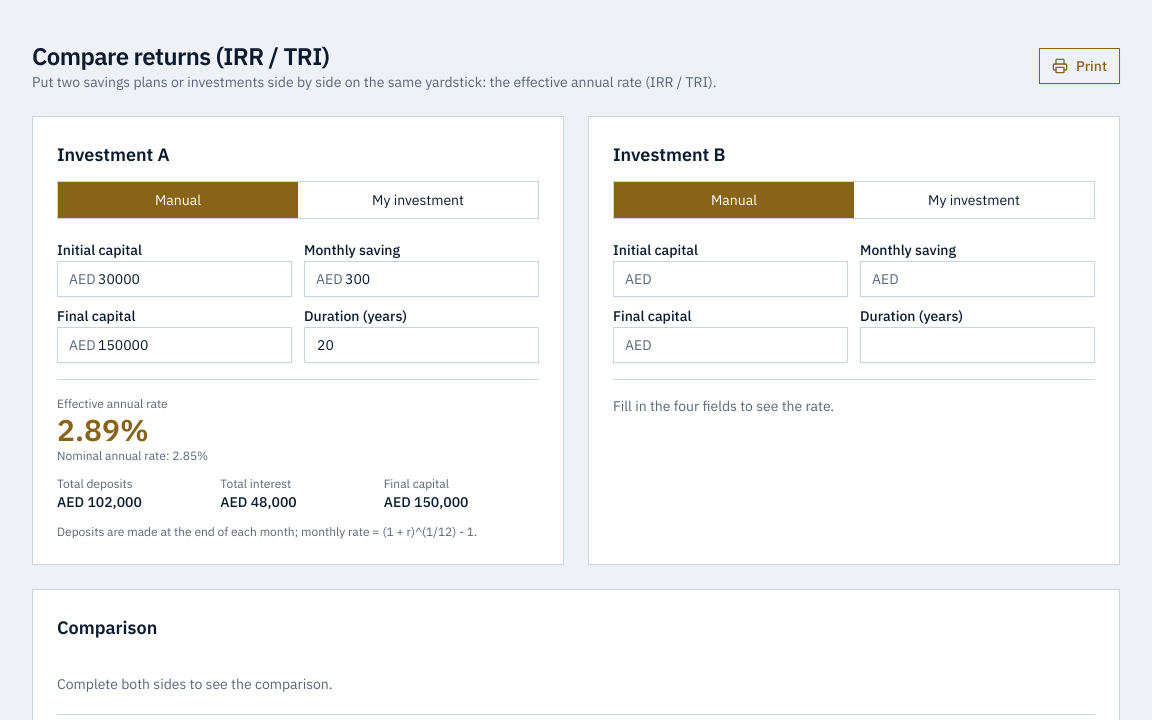
Scenario: IrrCompare: holdings › searches holdings by name
Click the radio button with test id "irr-b-source-holding".
click(974, 200)  # box [928,191,1020,209]
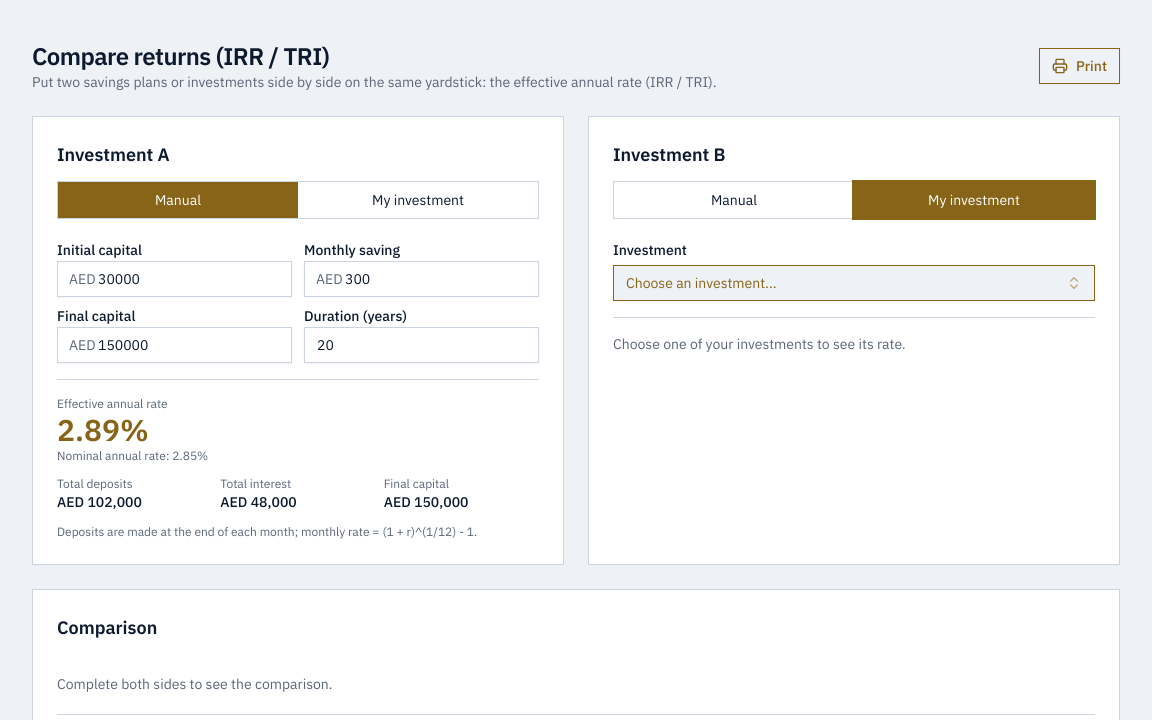
Click the dropdown with test id "irr-b-holding".
click(701, 283)  # box [613,265,1095,301]
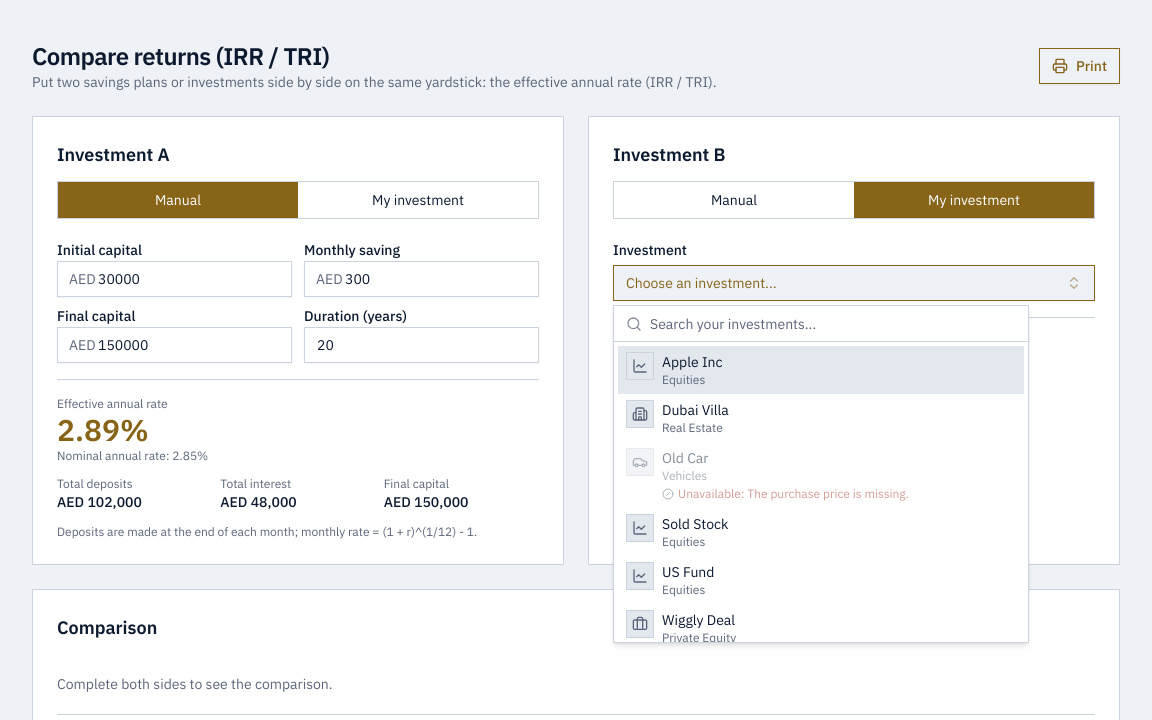
Type "apple" into the dropdown with placeholder "Search your investments...".
click(833, 324); type("apple")  # box [650,304,1016,344]
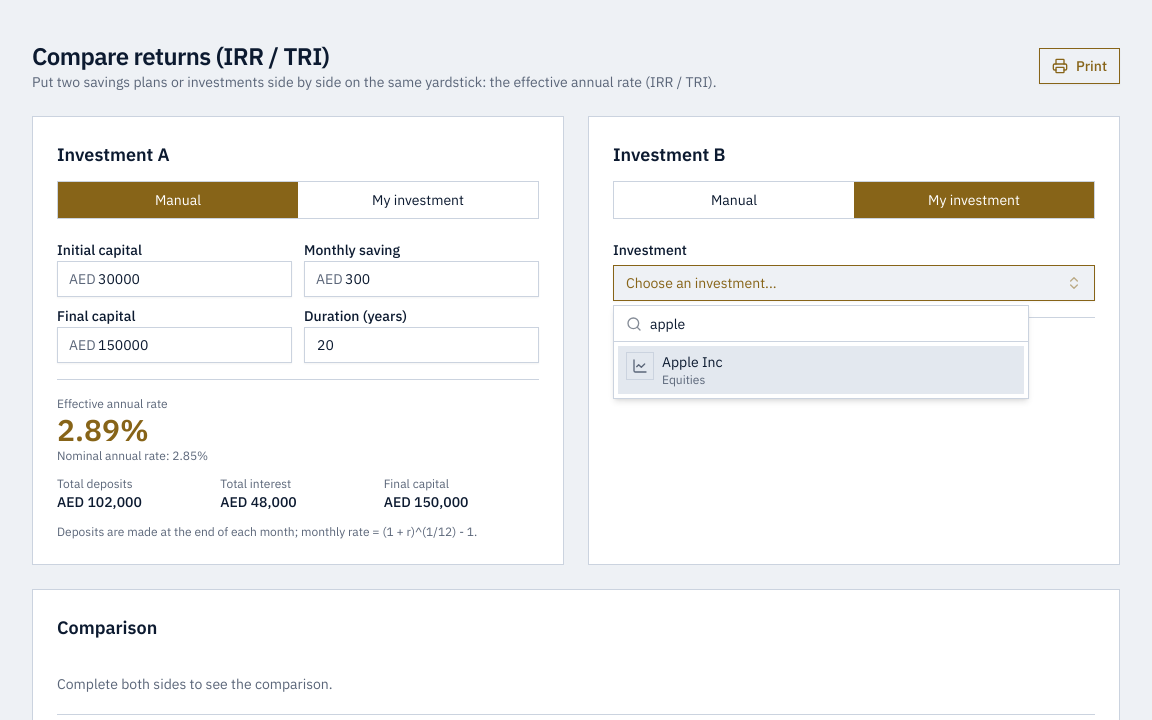
Result: the option with test id "irr-b-option-apple" is shown at [618,346,1024,394]
Result: the option with test id "irr-b-option-villa" is gone
